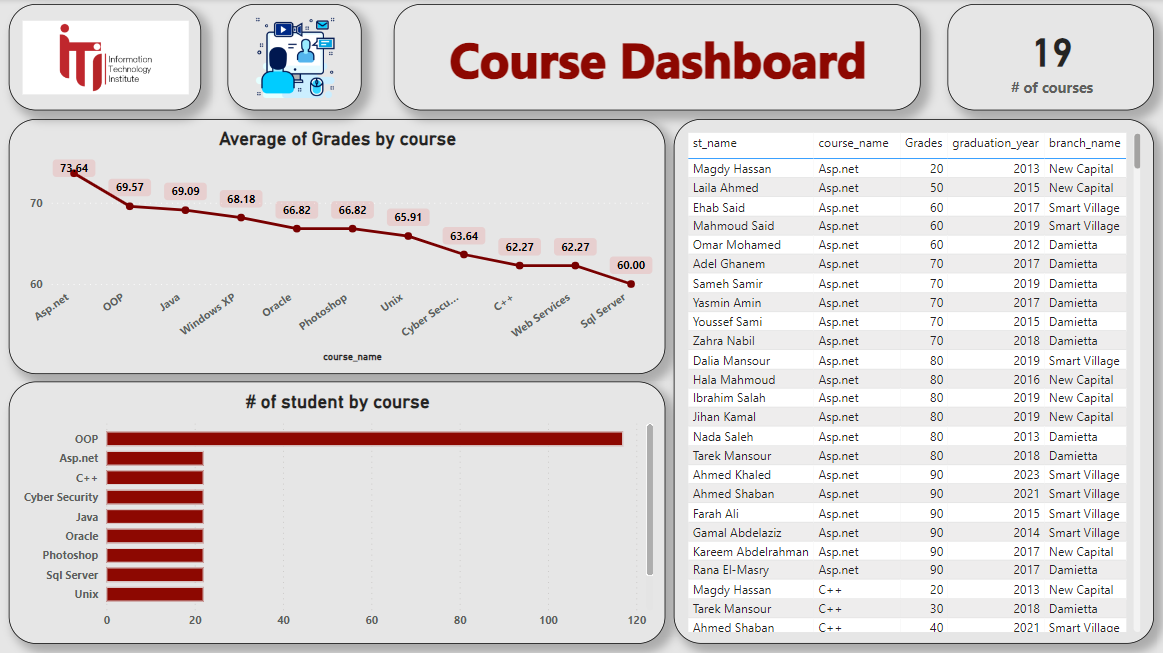

Layout of this report page (visuals, bound fields, positions):
{"tool":"powerbi","page":{"name":"Course","canvas":[1280,720],"ordinal":2},"visuals":[{"type":"lineChart","title":"Average of Grades by course","fields":{"Y":["Avg(Fact_Grades.Grades)"],"Category":["dim_courses.course_name"]},"box":[9.6,131.7,720.4,279.9],"z":0},{"type":"barChart","title":"# of student by course","fields":{"Y":["CountNonNull(Fact_Grades.students_FK)"],"Category":["dim_courses.course_name"]},"box":[9.7,420.2,720.7,287.9],"z":1000},{"type":"shape","box":[432.8,5.8,578.7,116.7],"z":2000},{"type":"card","fields":{"Values":["dim_courses.# of courses"]},"box":[1039.8,5.8,226.6,116.7],"z":3000},{"type":"tableEx","fields":{"Values":["Dim_Students.st_name","dim_courses.course_name","Fact_Grades.Grades","Dim_Students.graduation_year","Dim_Students.branch_name"]},"box":[739.6,131.7,526.9,576.3],"z":4000},{"type":"image","box":[9.7,5.8,211.1,116.7],"z":5000},{"type":"image","box":[250,5.8,146.9,116.7],"z":6000}]}

Visuals, with their boxes in screenshot pixels (x1, y1, x2, y2), scaled from the page's 1280x720 canvas onto the 1163x653 screenshot:
"Average of Grades by course" lineChart: select_region(9, 119, 663, 373)
"# of student by course" barChart: select_region(9, 381, 664, 642)
shape: select_region(393, 5, 919, 111)
card - dim_courses.# of courses: select_region(945, 5, 1151, 111)
tableEx - Dim_Students.st_name x dim_courses.course_name: select_region(672, 119, 1151, 642)
image: select_region(9, 5, 201, 111)
image: select_region(227, 5, 361, 111)
